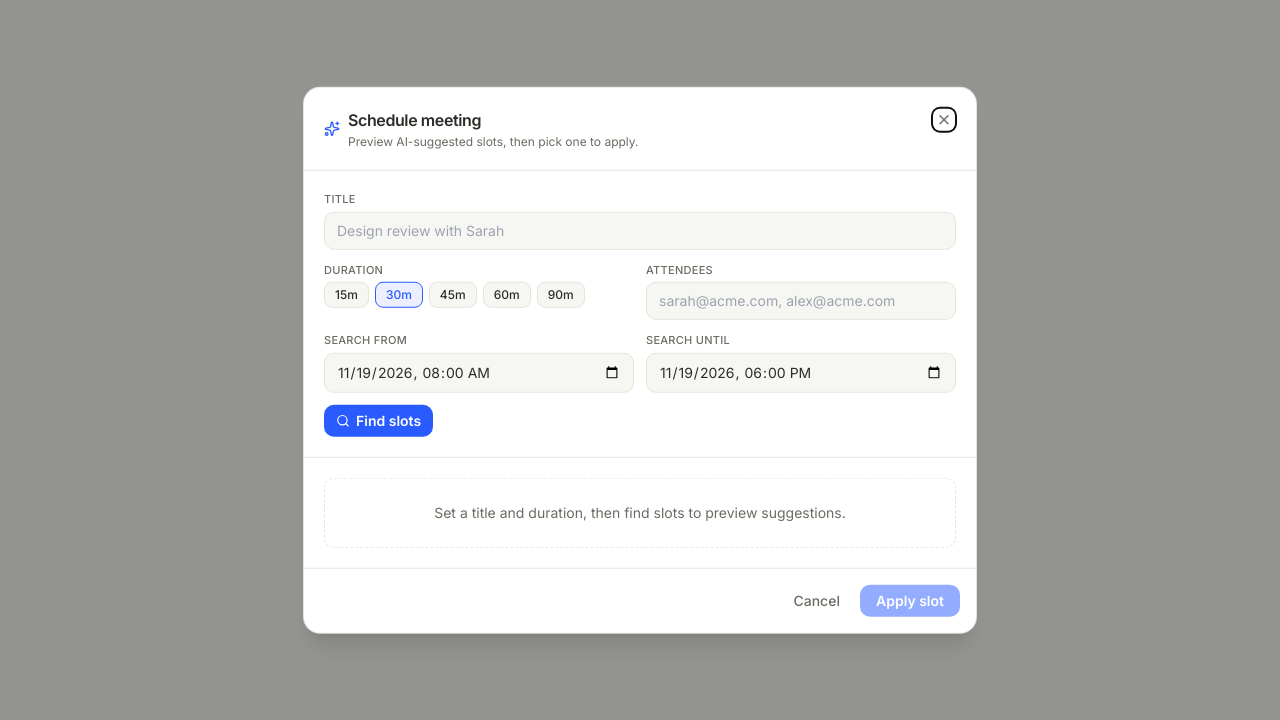
Test: PAC-133 AC-27: unknown attendees in the Suggest a time modal › still names them when no slot was found
The width and height of the screenshot is (1280, 720).
Type "Sync" into the field labelled "Title" at coordinates (640, 230), box [324,211,956,249]
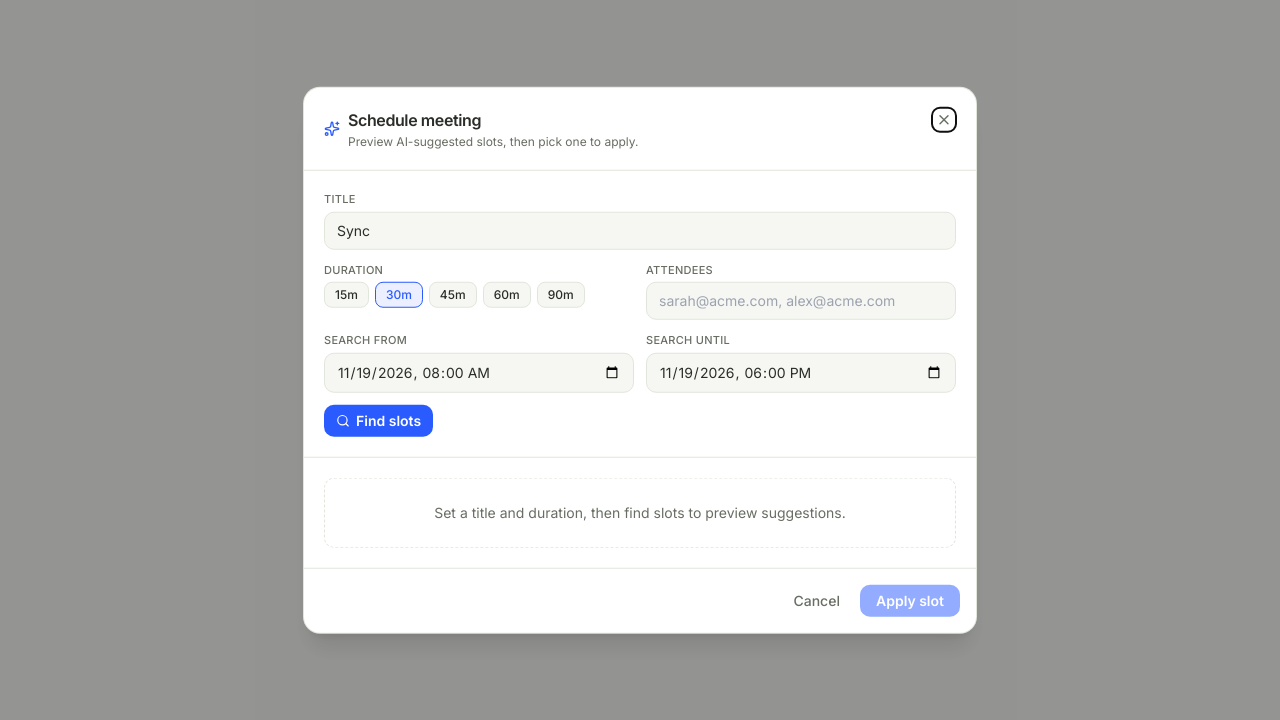
Type "bo@co.com, eve@gmail.com" into the field labelled "Attendees" at coordinates (801, 301), box [646,282,956,320]
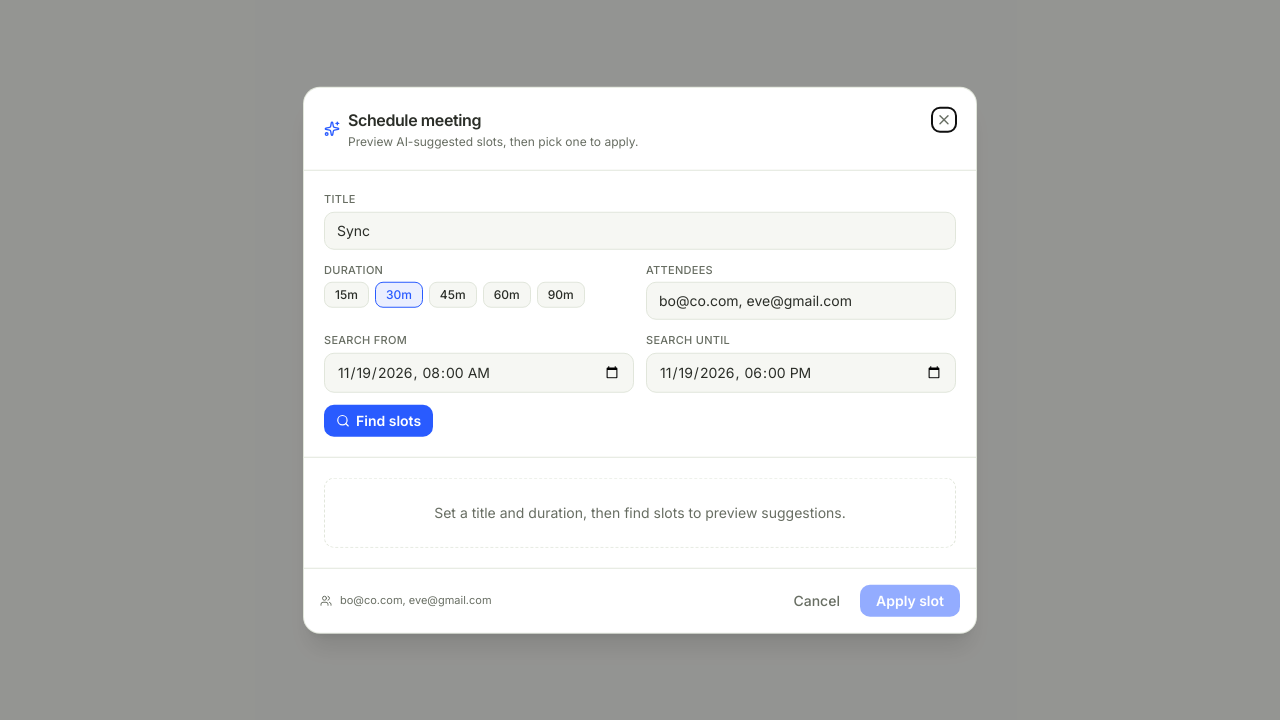
Click the button "Find slots" at coordinates (379, 420), box [324,404,433,436]
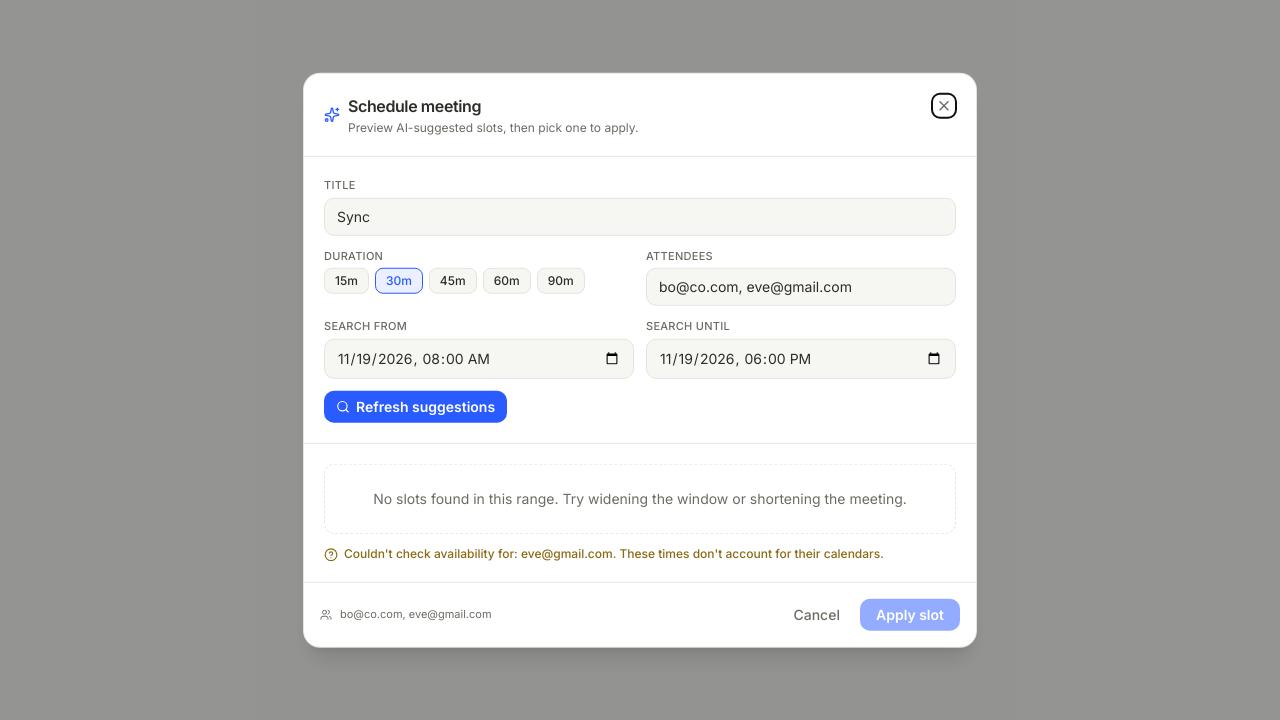
Result: the button "Refresh suggestions" is shown at [324,390,507,422]
Result: the text "No slots found in this range" is shown at [373,489,907,506]
Result: the element with test id "schedule-suggest-unknown-attendees" shows "eve@gmail.com" at [521,545,613,560]
